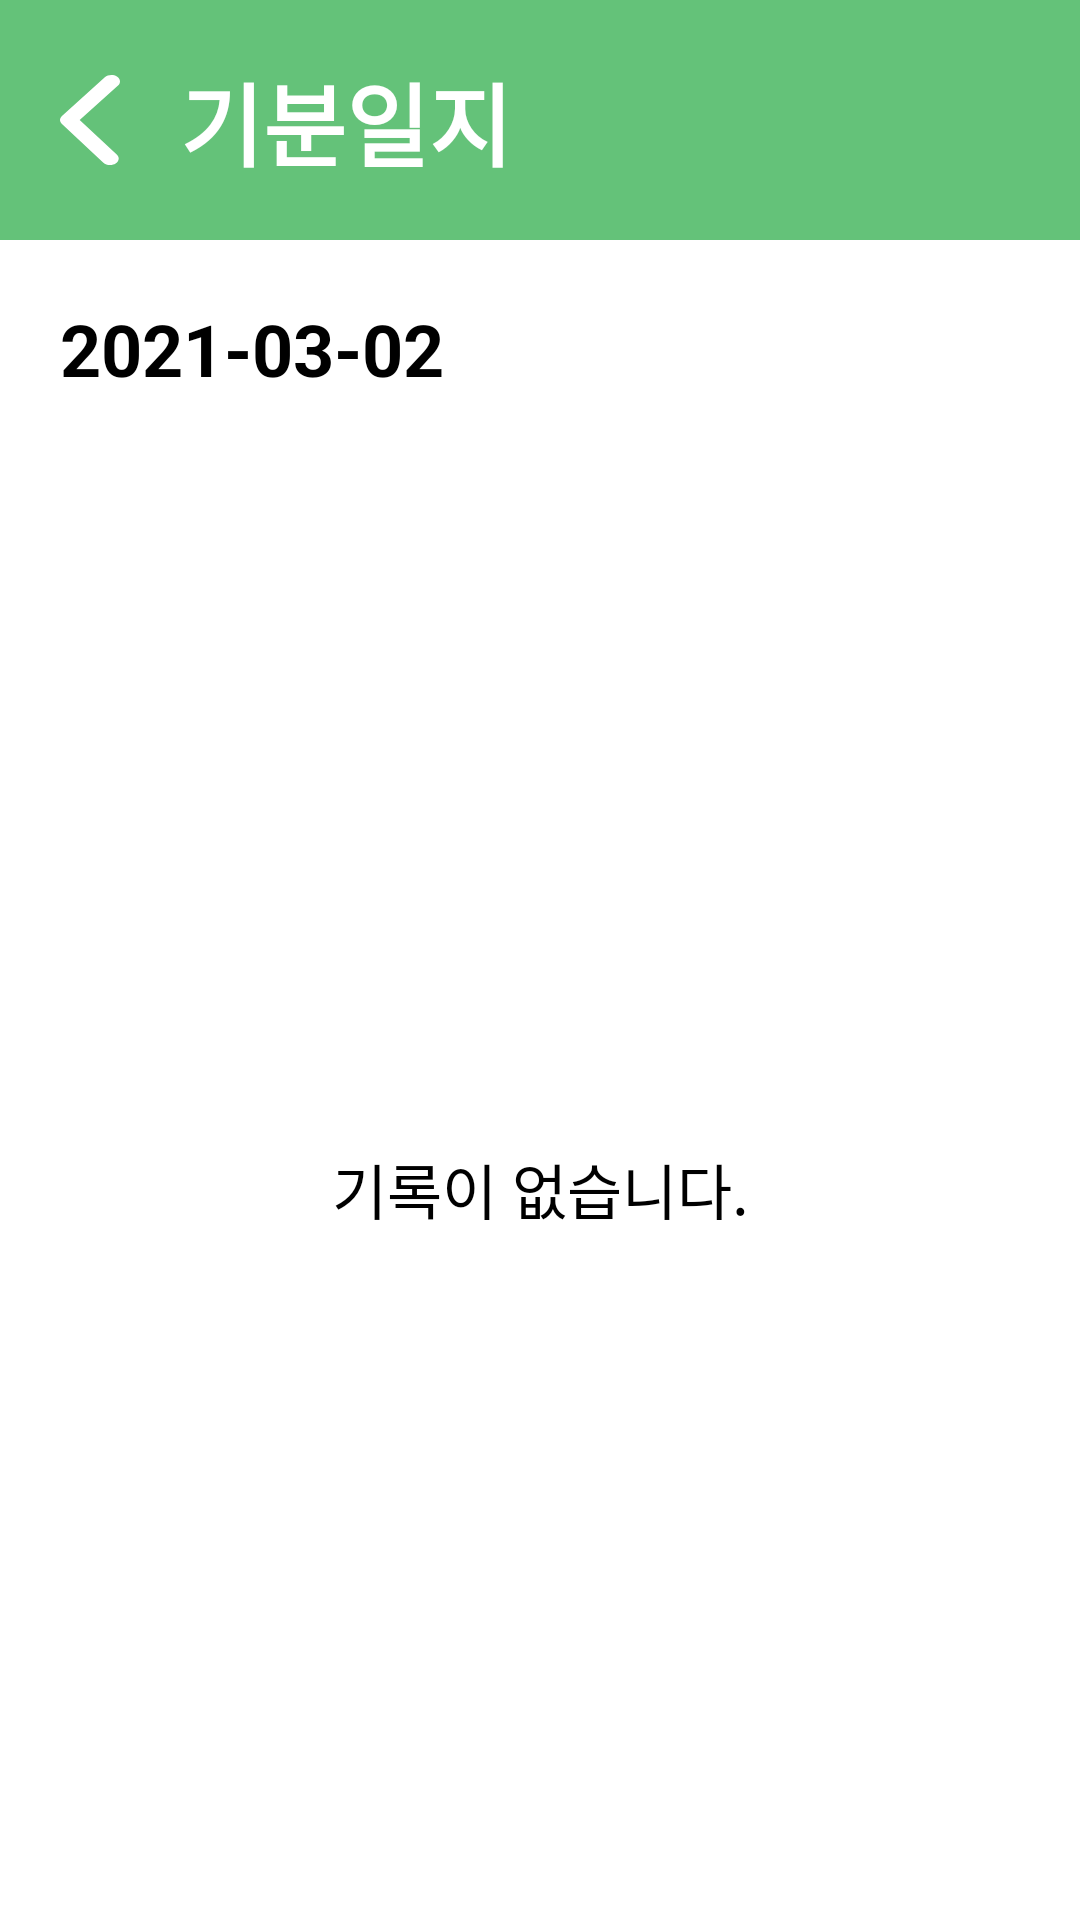

Named icons in this screenshot (1080w x 1920h) and their centers, (x=x, y=y):
back: (x=90, y=120)
